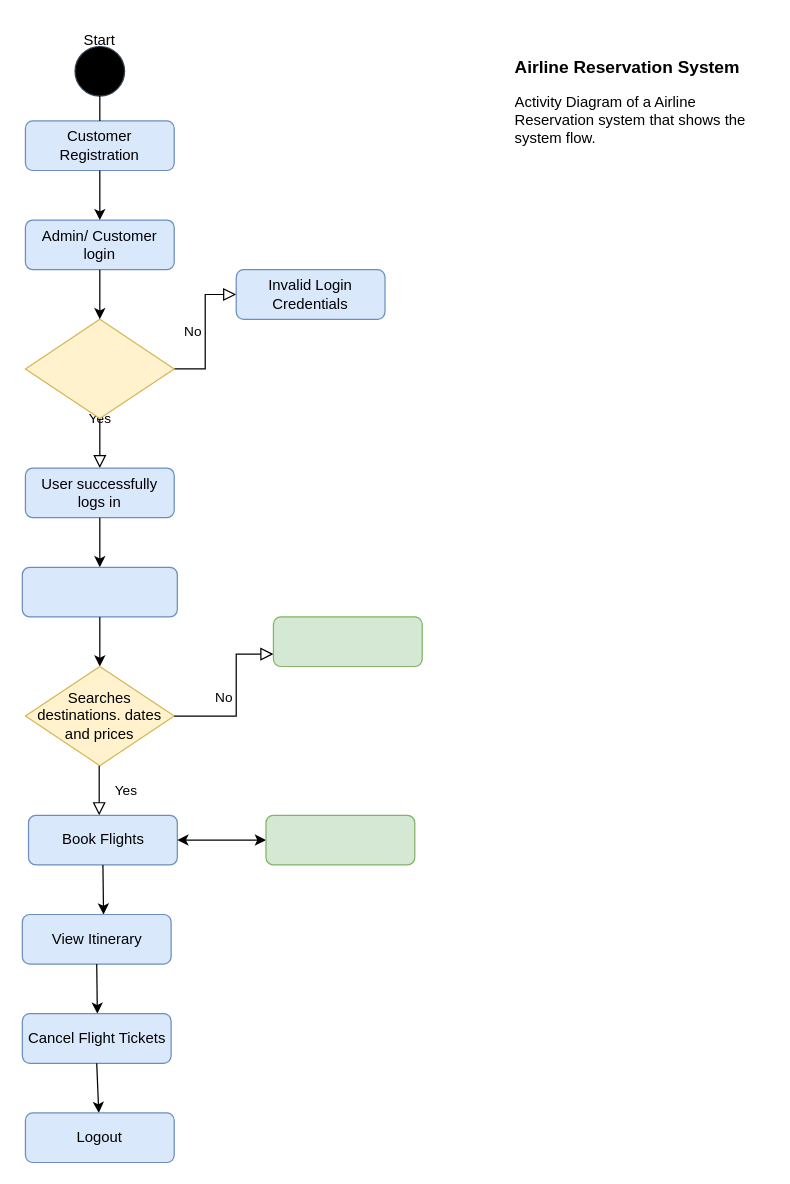
This 790x1184 diagram has some shape labels left out. The shapes that lost their labels are listed below. From the top down, each one's centre as x and y in pixels, then its label:
At (x=99, y=368): "Correct login details".
At (x=99, y=591): "Check flight Availability".
At (x=347, y=641): "No availability".
At (x=340, y=839): "Select Seats".
